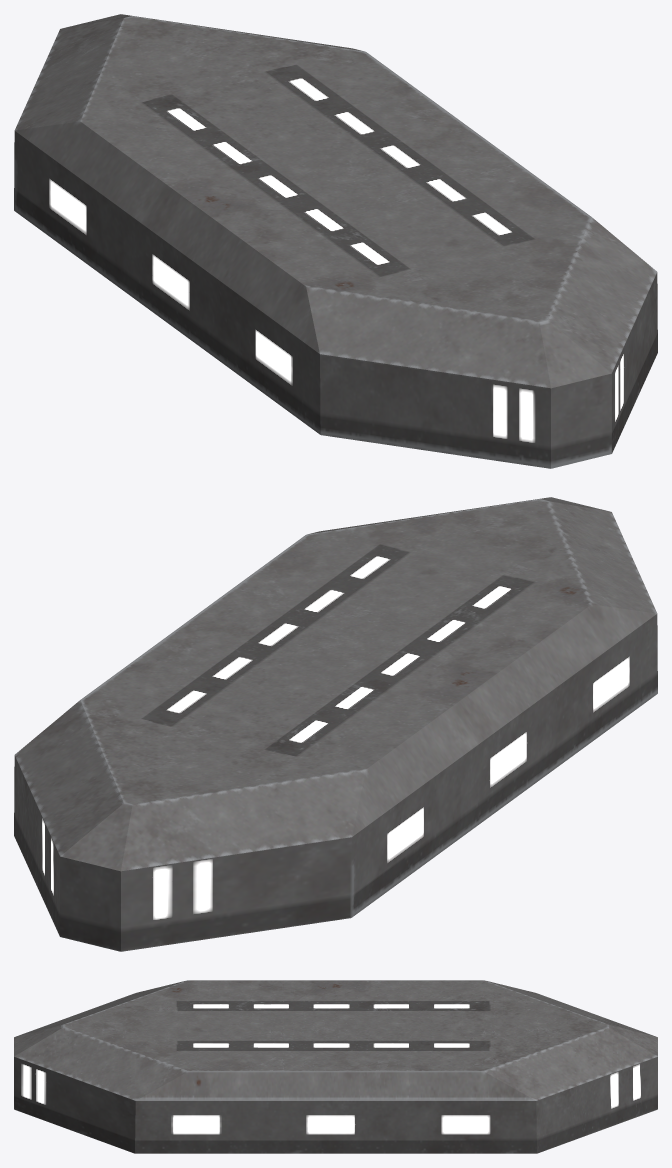
File: side_box_l_2.fbx
3 views of the same model, one above another, from view 1: azimuth 30°, elevation 25°; view 2: azimuth 150°, elevation 25°; view 3: azimuth 270°, elevation 25° (orthographic). The views are drawn at different scales.
Visible parts, largest first — view 1: side_box_l_2; view 2: side_box_l_2; view 3: side_box_l_2.
Boxes of the visible parts, <box> form: side_box_l_2: <box>14,14,657,468</box>; side_box_l_2: <box>14,497,657,951</box>; side_box_l_2: <box>14,980,657,1153</box>.
Bounding box in the file's own units: 5.86 × 1.87 × 14.78.
